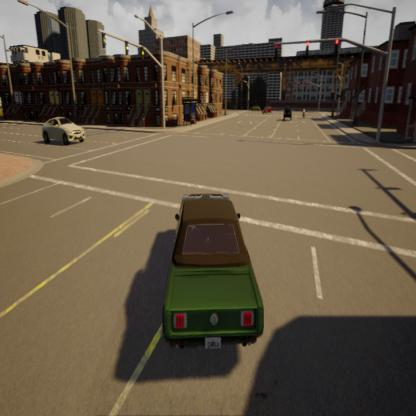Cars: (140, 168, 277, 365), (40, 110, 88, 148), (280, 102, 295, 124), (261, 102, 273, 117)
